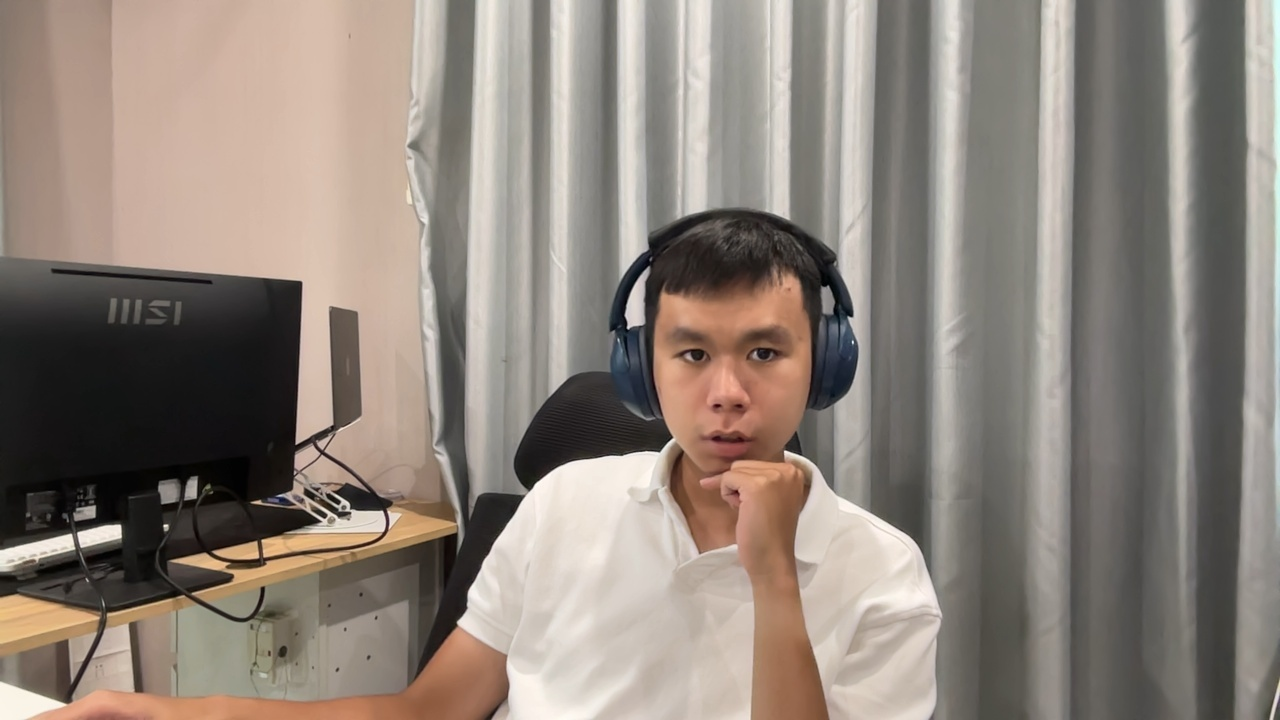over_ear: (610, 208, 861, 418), (606, 248, 662, 426)
